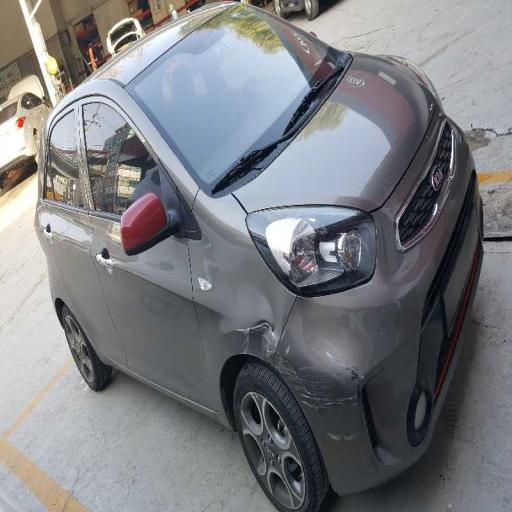scratch: (219, 234, 387, 487)
